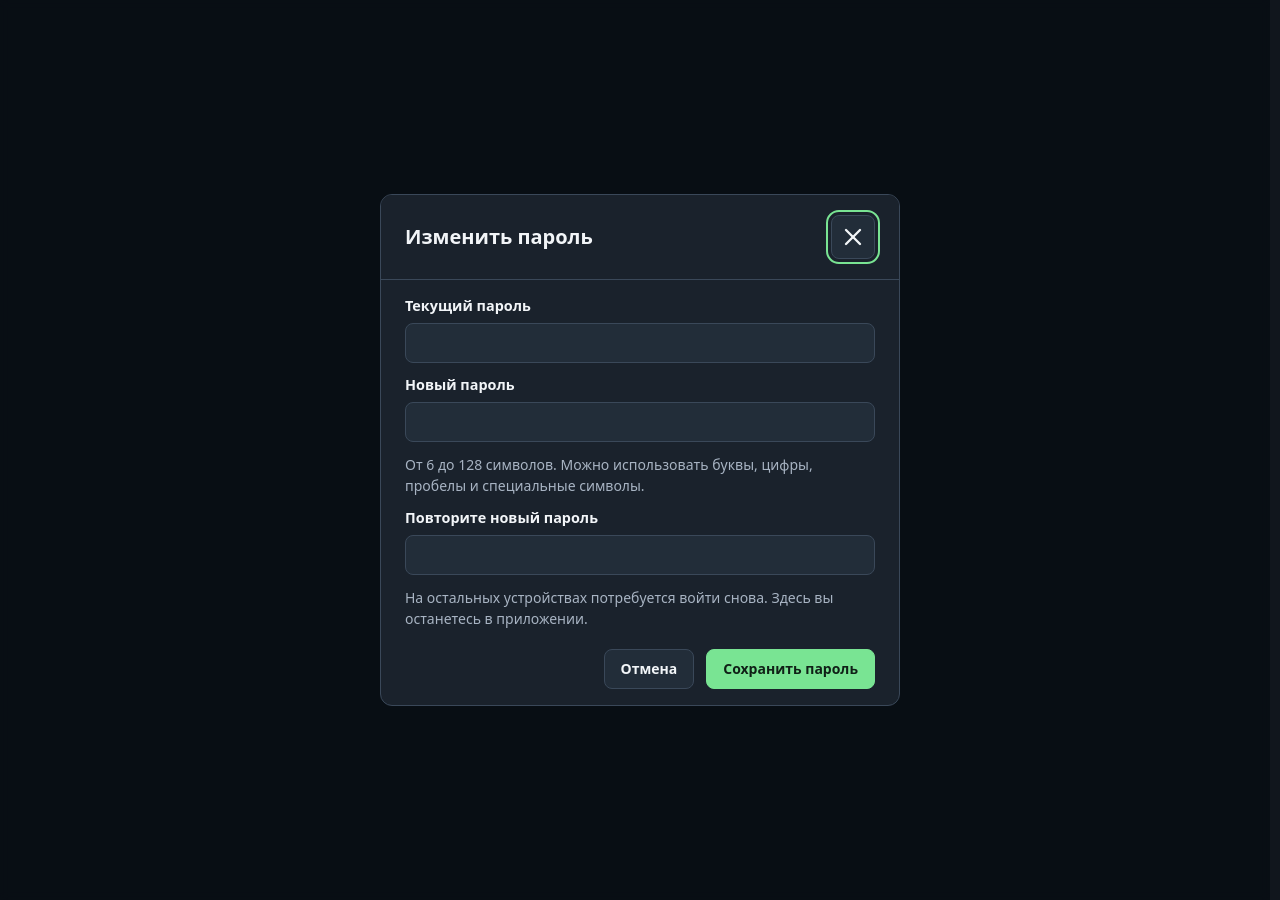
Scenario: blocks duplicate submission and closing while saving, then reports failure without claiming success
Type "old123" into the password field labelled "Текущий пароль" at (640, 343), box left=405, top=323, right=875, bottom=363
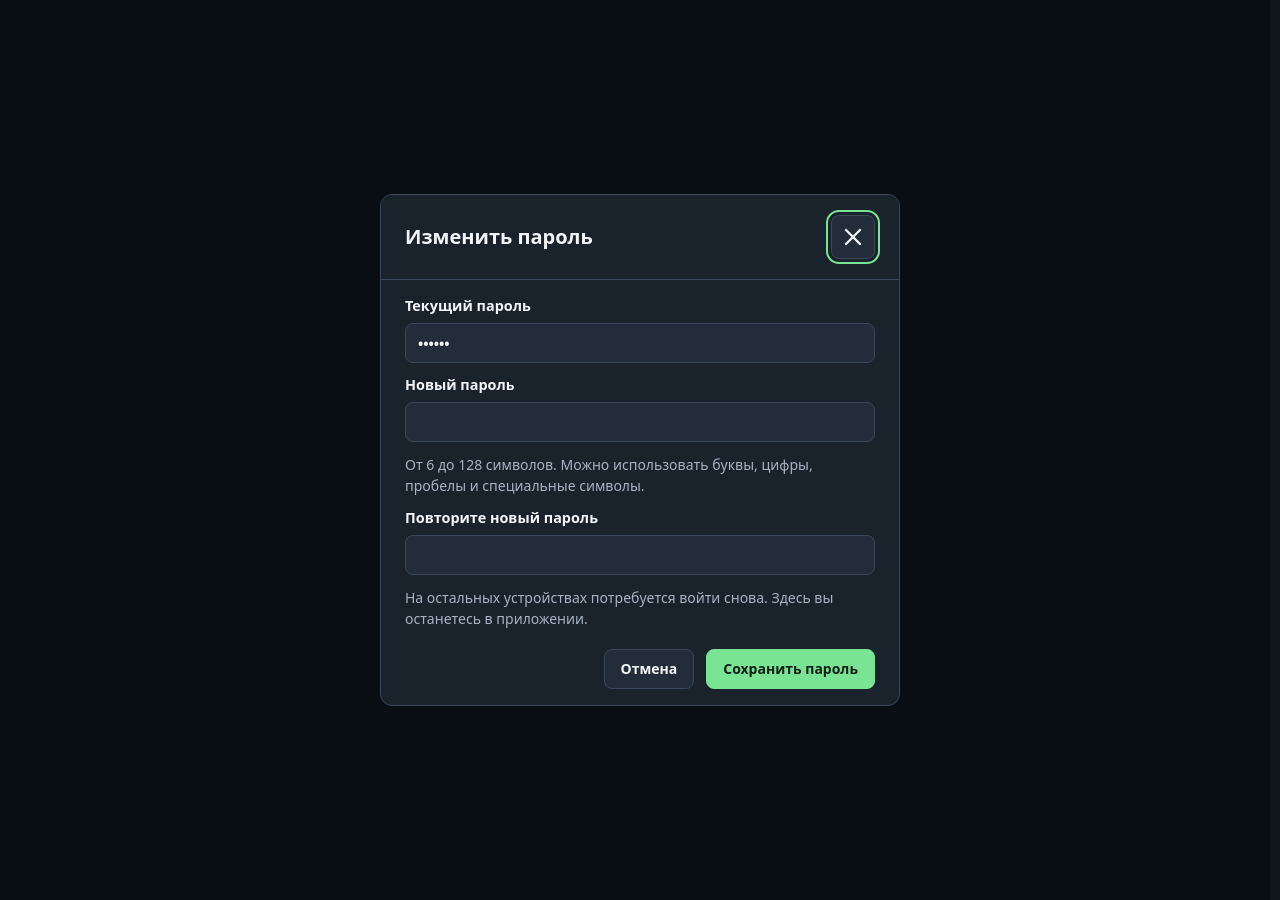
Type "new123" into the password field labelled "Новый пароль" at (640, 422), box left=405, top=402, right=875, bottom=442
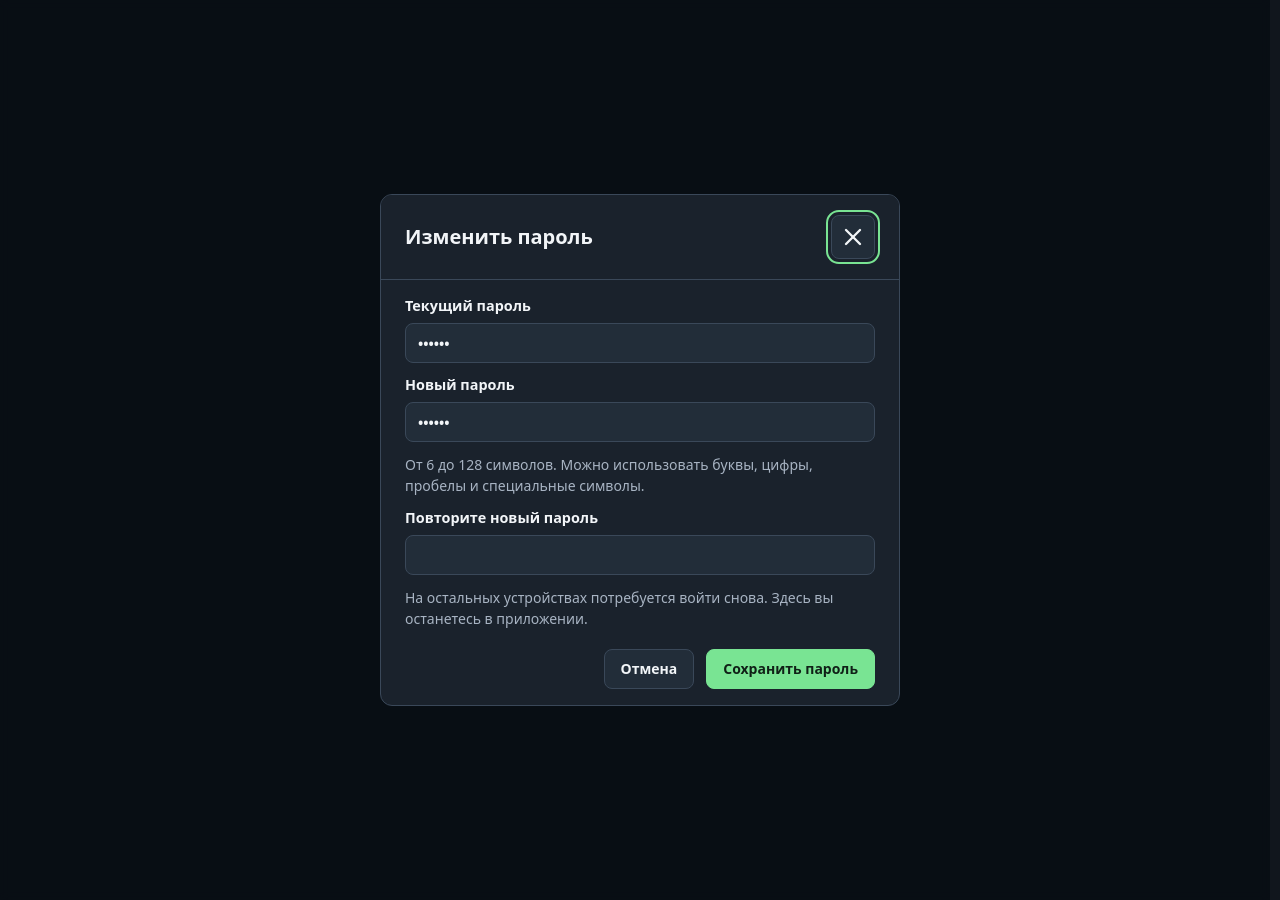
Type "new123" into the password field labelled "Повторите новый пароль" at (640, 555), box left=405, top=535, right=875, bottom=575
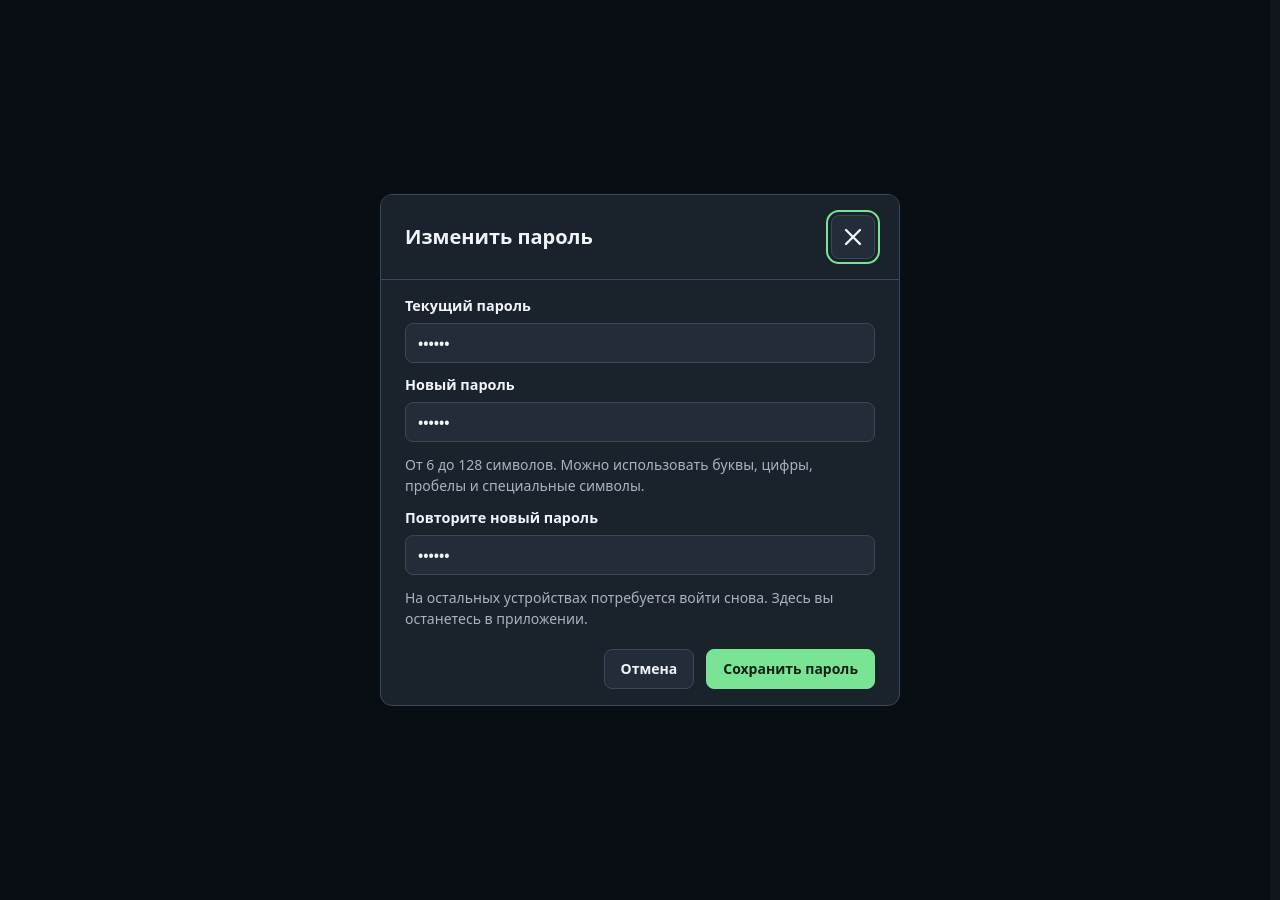
Click the button "Сохранить пароль" at (791, 669), box left=706, top=649, right=875, bottom=689
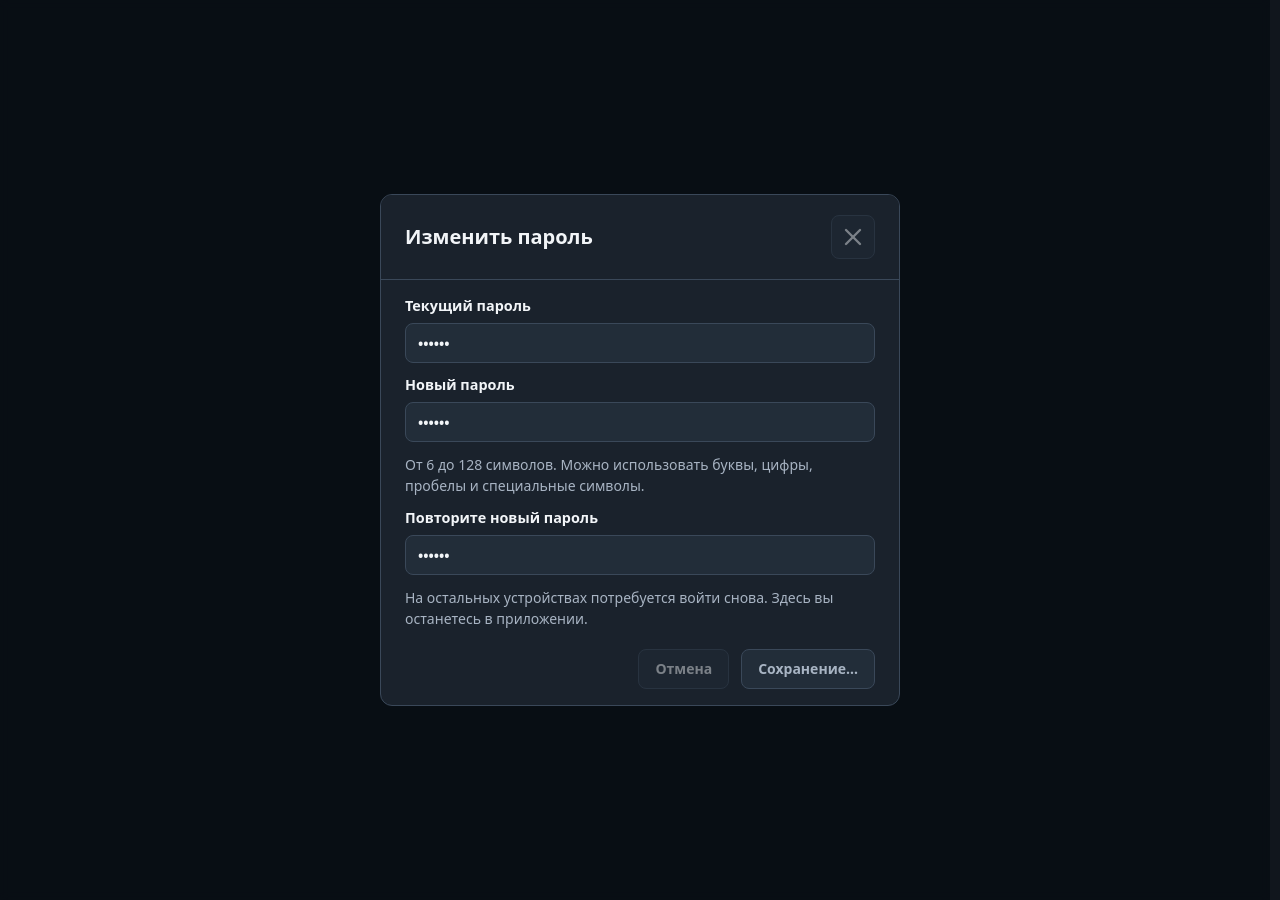
Click the button "Отмена" at (684, 669), box left=638, top=649, right=729, bottom=689
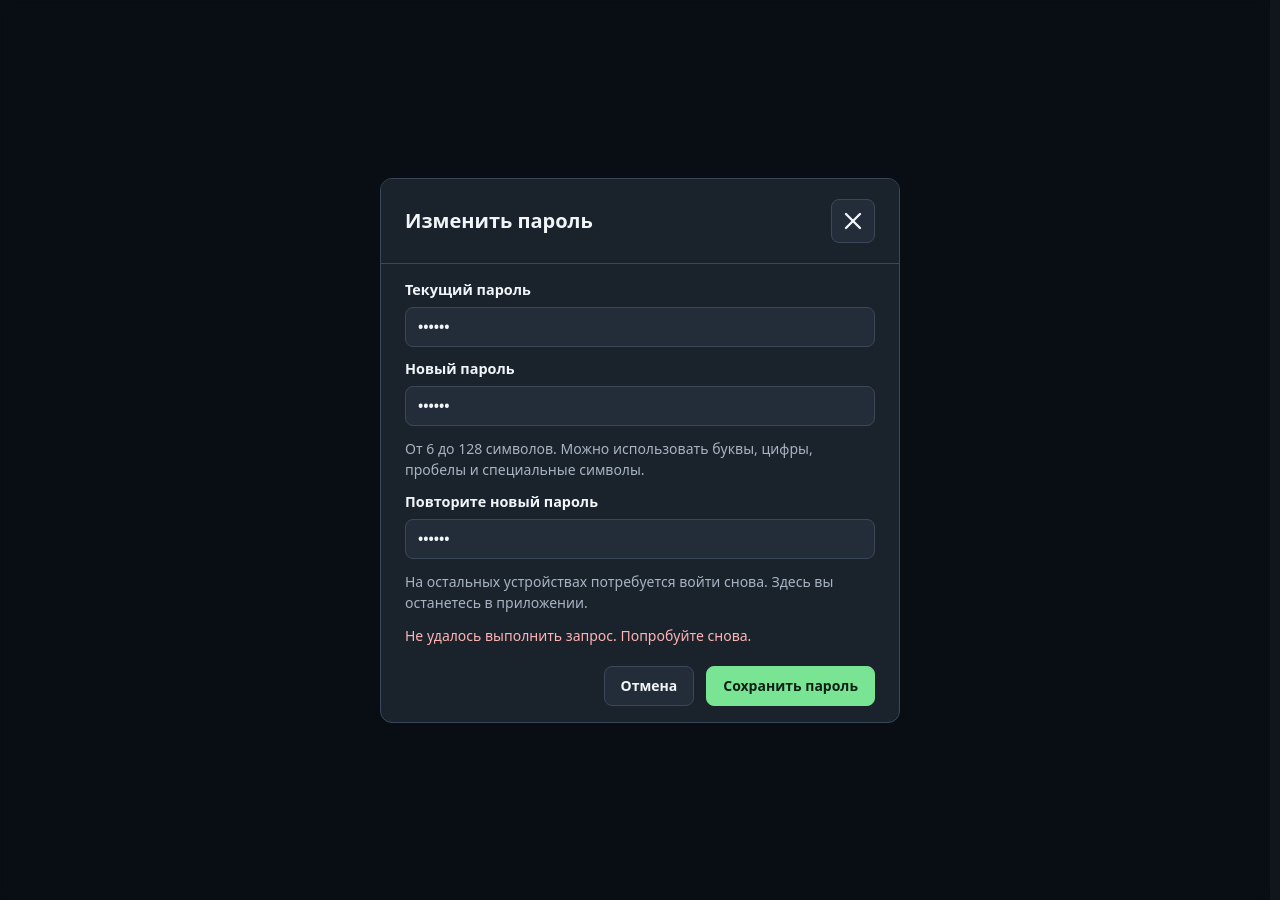
Check: the message "Не удалось выполнить запрос. Попробуйте снова." is shown, box left=405, top=626, right=751, bottom=644
Check: the button "Сохранить пароль" is enabled, box left=706, top=666, right=875, bottom=706
